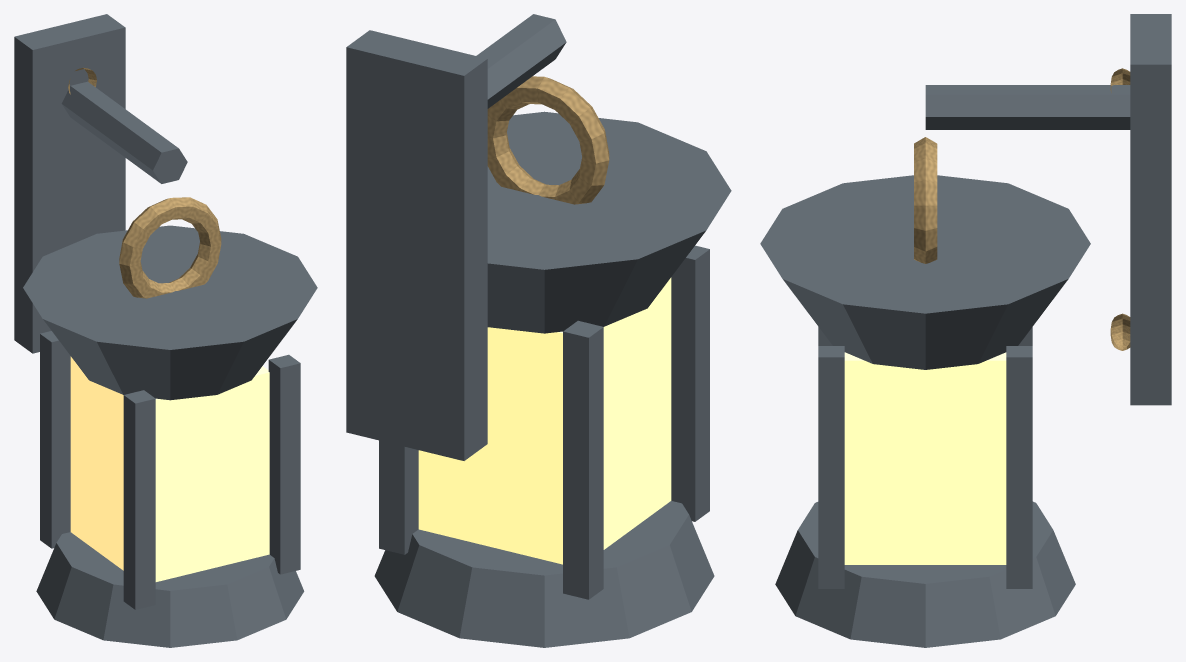
The model's file is lantern-watch-hanging-wall-lantern__88.glb.
3 views of the same model, side by side, from view 1: azimuth 30°, elevation 25°; view 2: azimuth 150°, elevation 25°; view 3: azimuth 270°, elevation 25° (orthographic). The views are drawn at different scales.
Visible parts, largest first — view 1: lantern-watch-wall-lantern; view 2: lantern-watch-wall-lantern; view 3: lantern-watch-wall-lantern.
Part boxes in pixels (x1,y1,x2,y2): lantern-watch-wall-lantern: (14,14,317,647); lantern-watch-wall-lantern: (346,14,731,647); lantern-watch-wall-lantern: (760,14,1171,647).
Bounding box in the file's own units: 0.44 × 0.8 × 0.5475.
3 materials, 1 textured.
